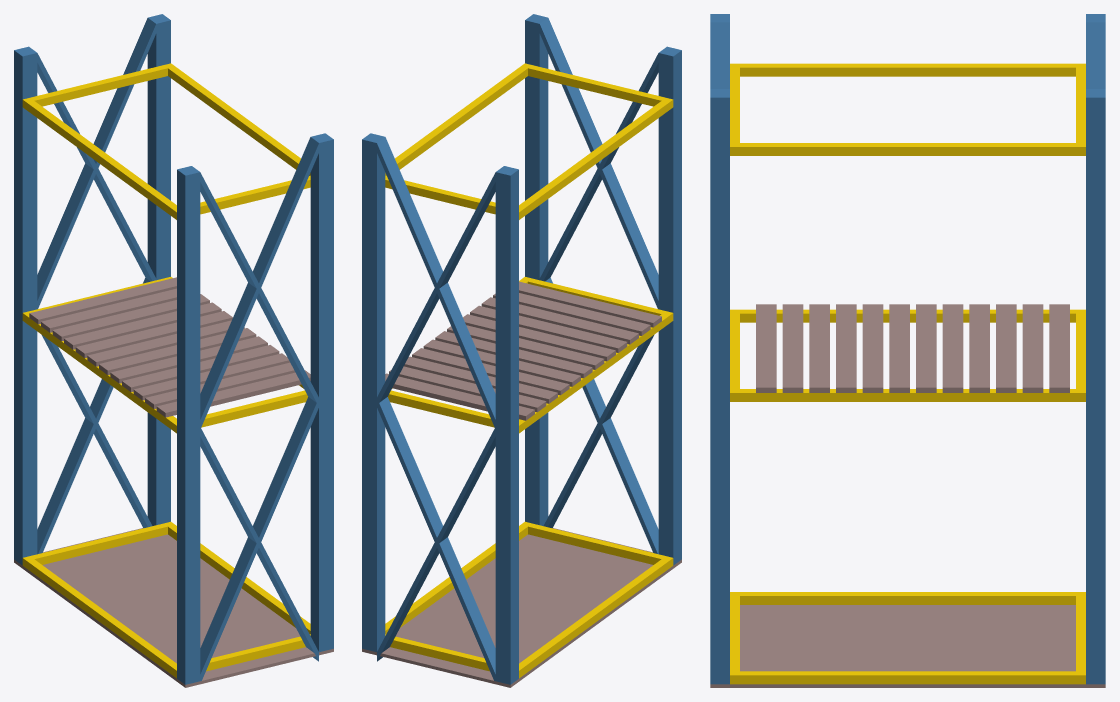
The model's file is RackNew.fbx.
The picture shows the model from 3 angles, left to right: view 1: azimuth 30°, elevation 25°; view 2: azimuth 150°, elevation 25°; view 3: azimuth 270°, elevation 25°; orthographic projection. The views are drawn at different scales.
Visible parts, largest first — view 1: Group1, Group9, Group6, Group15, Group10, Group7, Group16, Group13, Group3, Group4, Group12, Group2 (+12 smaller); view 2: Group1, Group15, Group12, Group9, Group16, Group13, Group10, Group7, Group3, Group4, Group6, Group2 (+12 smaller); view 3: Group1, Group3, Group4, Group2, Group9, Group15, Group6, Group12, Group18, Group21, Group24, Group27 (+10 smaller).
Part boxes in pixels (x1,y1,x2,y2): Group1: (14,528,333,687); Group9: (200,133,333,428); Group6: (200,394,333,680); Group15: (37,14,170,309); Group10: (177,166,318,430); Group7: (177,424,318,684); Group16: (14,46,156,310); Group13: (14,305,152,565); Group3: (22,63,310,219); Group4: (22,521,310,678); Group12: (37,275,170,554); Group2: (22,277,307,433); Group1: (362,528,681,687); Group15: (362,133,495,428); Group12: (362,394,495,680); Group9: (525,14,658,309); Group16: (377,166,518,430); Group13: (377,424,518,684); Group10: (540,46,681,310); Group7: (543,305,681,565); Group3: (385,63,673,219); Group4: (385,521,673,678); Group6: (525,275,658,554); Group2: (388,277,673,433); Group1: (710,605,1105,687); Group3: (730,63,1085,155); Group4: (730,592,1085,684); Group2: (730,309,1085,401); Group9: (710,89,729,390); Group15: (1086,89,1105,390); Group6: (710,391,729,684); Group12: (1086,391,1105,684); Group18: (782,304,803,392); Group21: (862,304,883,392); Group24: (942,304,963,392); Group27: (1022,304,1043,392).
Bounding box in the file's own units: 100 × 334 × 200.
